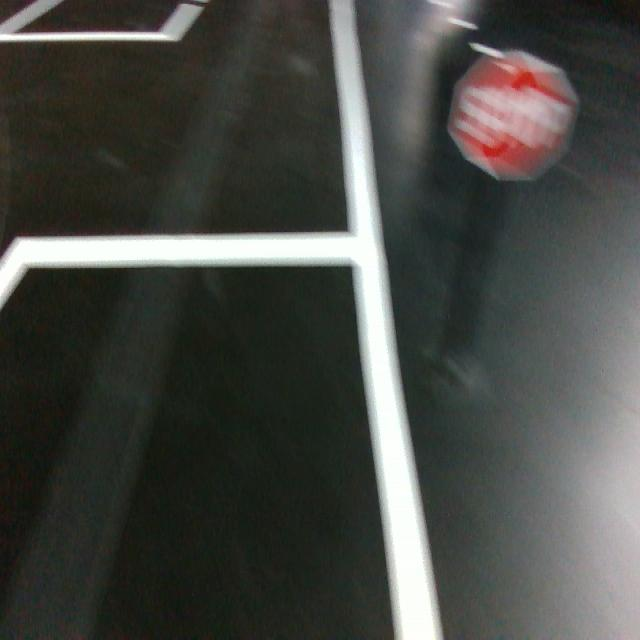stop-sign: (445, 49, 581, 182)
